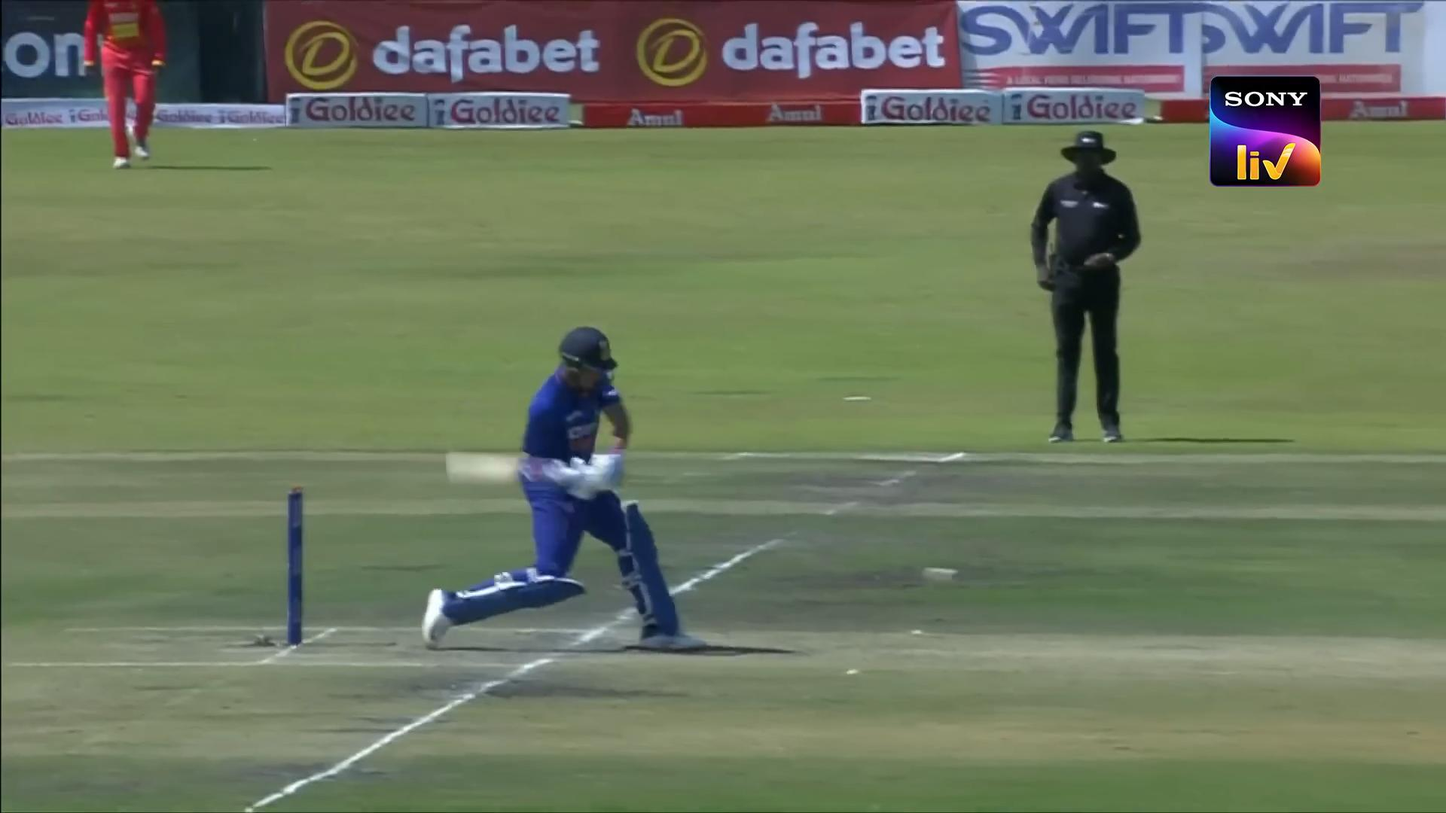batsman: (424, 325, 706, 652)
